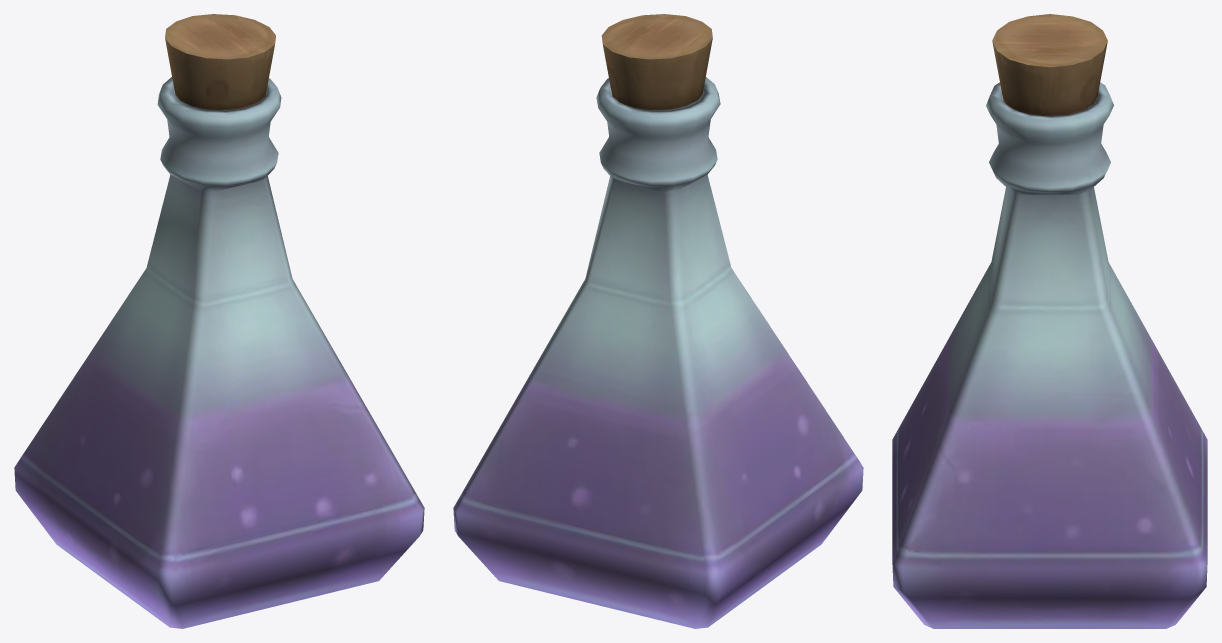
3 views of the same model, side by side, from view 1: azimuth 30°, elevation 25°; view 2: azimuth 150°, elevation 25°; view 3: azimuth 270°, elevation 25° (orthographic). The views are drawn at different scales.
Visible parts, largest first — view 1: SM_Unfinished_Sagewort_Potion_01_LOD0; view 2: SM_Unfinished_Sagewort_Potion_01_LOD0; view 3: SM_Unfinished_Sagewort_Potion_01_LOD0.
Part boxes in pixels (x1,y1,x2,y2): SM_Unfinished_Sagewort_Potion_01_LOD0: (14, 14, 424, 628); SM_Unfinished_Sagewort_Potion_01_LOD0: (453, 14, 863, 628); SM_Unfinished_Sagewort_Potion_01_LOD0: (892, 14, 1207, 628).
Bounding box in the file's own units: 0.1248 × 0.2352 × 0.1248.
1 material, 1 textured.
